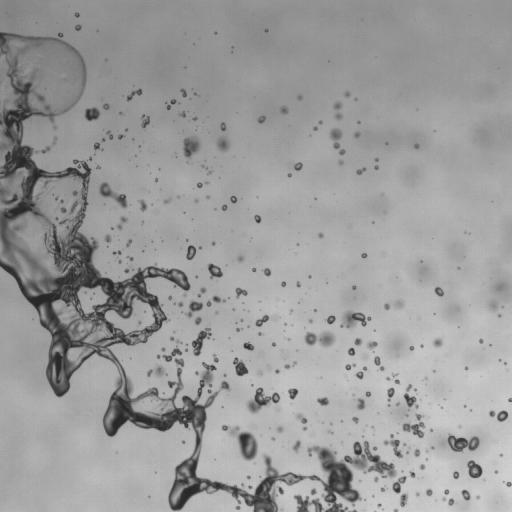droplet: (247, 387, 280, 413), (340, 310, 370, 329), (402, 414, 424, 437), (183, 137, 200, 157), (185, 300, 202, 317), (233, 357, 248, 375), (467, 460, 482, 478), (207, 263, 222, 278), (84, 107, 99, 121), (147, 365, 166, 376), (489, 410, 508, 421), (217, 137, 229, 151), (186, 245, 195, 259), (235, 287, 247, 297), (488, 300, 498, 311), (288, 388, 298, 399), (461, 489, 470, 500), (141, 115, 149, 127), (292, 440, 300, 452), (387, 387, 394, 400), (367, 341, 377, 350), (138, 200, 146, 211), (317, 397, 328, 405), (434, 287, 443, 296), (433, 338, 442, 347), (325, 315, 335, 323), (243, 342, 253, 350), (357, 398, 364, 409), (293, 162, 302, 170), (394, 300, 403, 308), (41, 146, 50, 153), (254, 215, 261, 223), (263, 268, 270, 276), (354, 338, 362, 345), (356, 168, 365, 174), (345, 364, 355, 369), (334, 102, 341, 109), (280, 106, 287, 113), (258, 116, 265, 123), (104, 235, 111, 242), (447, 498, 454, 505), (335, 113, 342, 119), (94, 142, 100, 149), (230, 196, 236, 203), (195, 317, 201, 324), (348, 348, 354, 355), (453, 471, 459, 478), (310, 488, 316, 495), (181, 89, 186, 97), (220, 122, 225, 130), (213, 354, 218, 362), (103, 103, 109, 109), (237, 255, 243, 261), (409, 471, 415, 477), (426, 489, 432, 495), (107, 131, 112, 138), (414, 449, 419, 456), (75, 25, 81, 30), (344, 91, 349, 97), (180, 111, 185, 117), (222, 204, 227, 210), (126, 240, 131, 246), (384, 303, 389, 309), (284, 364, 290, 369), (352, 417, 358, 422), (277, 426, 282, 432), (419, 464, 425, 469), (354, 132, 359, 137), (197, 182, 202, 187), (124, 268, 129, 273), (164, 199, 170, 203), (175, 340, 181, 344), (505, 482, 511, 486), (380, 487, 386, 491), (113, 251, 120, 254), (75, 12, 79, 17), (118, 134, 123, 138), (318, 233, 323, 237), (361, 253, 366, 257), (281, 281, 285, 286), (178, 302, 183, 306), (258, 370, 262, 375), (366, 391, 370, 396), (53, 137, 56, 143), (127, 257, 133, 260), (313, 126, 317, 130), (414, 144, 418, 148), (339, 160, 343, 164), (374, 165, 378, 169), (296, 282, 300, 286), (352, 285, 356, 289), (479, 339, 483, 343), (161, 347, 165, 351), (275, 369, 279, 373), (276, 406, 280, 410), (373, 446, 377, 450), (374, 476, 377, 481), (298, 95, 301, 99), (309, 319, 312, 323), (170, 336, 173, 340), (272, 342, 275, 346), (410, 346, 413, 350), (292, 362, 296, 365), (386, 377, 390, 380), (508, 398, 511, 402), (247, 475, 250, 479), (248, 485, 252, 488), (393, 509, 398, 511), (193, 117, 196, 120), (97, 166, 100, 169), (208, 171, 211, 174), (288, 173, 291, 176), (55, 197, 58, 200), (252, 268, 255, 271), (476, 495, 479, 498), (378, 503, 380, 507), (319, 121, 322, 123), (375, 158, 377, 161), (212, 242, 215, 244), (168, 297, 171, 299), (240, 319, 243, 321), (465, 367, 467, 370), (414, 388, 416, 391), (182, 440, 184, 443), (431, 446, 433, 449), (495, 470, 497, 473), (199, 247, 201, 249), (118, 260, 120, 262), (237, 328, 239, 330), (259, 333, 261, 335), (287, 338, 289, 340), (420, 345, 422, 347), (396, 403, 398, 405), (329, 431, 331, 433), (272, 438, 274, 440), (416, 493, 418, 495)
ligament: (0, 32, 396, 511), (221, 424, 257, 460), (99, 182, 128, 208), (447, 434, 479, 451), (192, 327, 210, 355), (304, 330, 335, 346), (383, 434, 402, 458), (392, 476, 407, 506), (330, 128, 345, 154), (404, 384, 418, 407), (206, 295, 225, 306), (295, 413, 307, 430), (127, 89, 141, 100), (255, 315, 269, 326), (374, 356, 384, 370), (117, 216, 127, 229), (356, 367, 366, 378), (167, 99, 176, 109), (198, 287, 206, 297), (392, 373, 399, 383), (442, 489, 448, 500), (0, 79, 1, 83)
